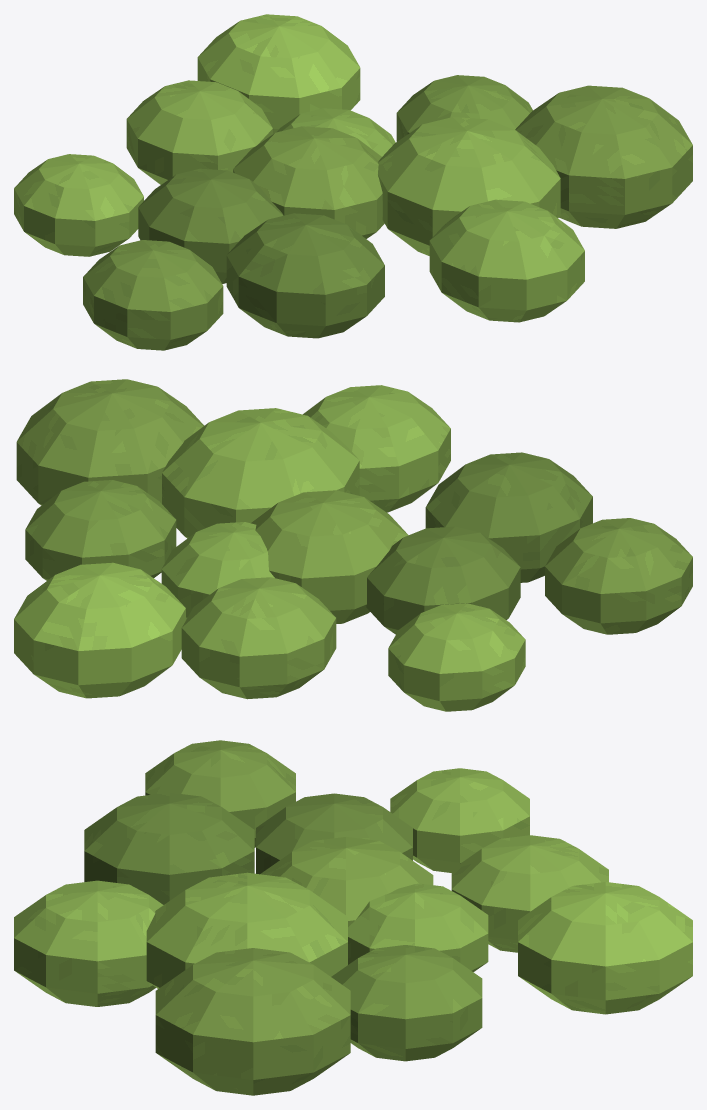
File: popcorn_raw.glb
3 views of the same model, one above another, from view 1: azimuth 30°, elevation 25°; view 2: azimuth 150°, elevation 25°; view 3: azimuth 270°, elevation 25° (orthographic). The views are drawn at different scales.
Parts seen in each view (by area): view 1: block_grain 11, block_grain 3, block_grain 5, block_grain 8, block_grain 9, block_grain 10, block_grain 0, block_grain 4, block_grain 7, block_grain 2, block_grain 6, block_grain 1; view 2: block_grain 9, block_grain 3, block_grain 11, block_grain 4, block_grain 10, block_grain 5, block_grain 0, block_grain 7, block_grain 8, block_grain 6, block_grain 2, block_grain 1; view 3: block_grain 11, block_grain 9, block_grain 3, block_grain 8, block_grain 5, block_grain 6, block_grain 7, block_grain 4, block_grain 10, block_grain 1, block_grain 0, block_grain 2.
Boxes of the visible parts, bbox=[...] form: block_grain 11: bbox=[515, 85, 692, 228]; block_grain 3: bbox=[378, 117, 560, 255]; block_grain 5: bbox=[226, 213, 384, 338]; block_grain 8: bbox=[429, 199, 584, 322]; block_grain 9: bbox=[197, 14, 360, 133]; block_grain 10: bbox=[83, 240, 223, 350]; block_grain 0: bbox=[233, 126, 384, 238]; block_grain 4: bbox=[126, 80, 272, 184]; block_grain 7: bbox=[14, 154, 143, 256]; block_grain 2: bbox=[138, 168, 283, 283]; block_grain 6: bbox=[396, 75, 532, 141]; block_grain 1: bbox=[276, 108, 395, 156]; block_grain 9: bbox=[14, 562, 185, 698]; block_grain 3: bbox=[162, 408, 359, 538]; block_grain 11: bbox=[16, 379, 204, 505]; block_grain 4: bbox=[181, 577, 336, 699]; block_grain 10: bbox=[545, 518, 692, 634]; block_grain 5: bbox=[425, 452, 592, 582]; block_grain 0: bbox=[251, 490, 408, 623]; block_grain 7: bbox=[388, 603, 525, 711]; block_grain 8: bbox=[303, 385, 450, 512]; block_grain 6: bbox=[25, 480, 176, 580]; block_grain 2: bbox=[366, 526, 520, 634]; block_grain 1: bbox=[161, 522, 274, 619]; block_grain 11: bbox=[155, 948, 350, 1095]; block_grain 9: bbox=[518, 882, 692, 1014]; block_grain 3: bbox=[146, 872, 347, 988]; block_grain 8: bbox=[14, 880, 163, 1006]; block_grain 5: bbox=[84, 792, 254, 904]; block_grain 6: bbox=[331, 945, 482, 1061]; block_grain 7: bbox=[390, 768, 529, 872]; block_grain 4: bbox=[451, 835, 608, 952]; block_grain 10: bbox=[145, 740, 295, 847]; block_grain 1: bbox=[348, 883, 488, 971]; block_grain 0: bbox=[260, 837, 433, 926]; block_grain 2: bbox=[256, 793, 412, 874].
Bounding box in the file's own units: 0.079 × 0.0151 × 0.0735.
1 material, 1 textured.
